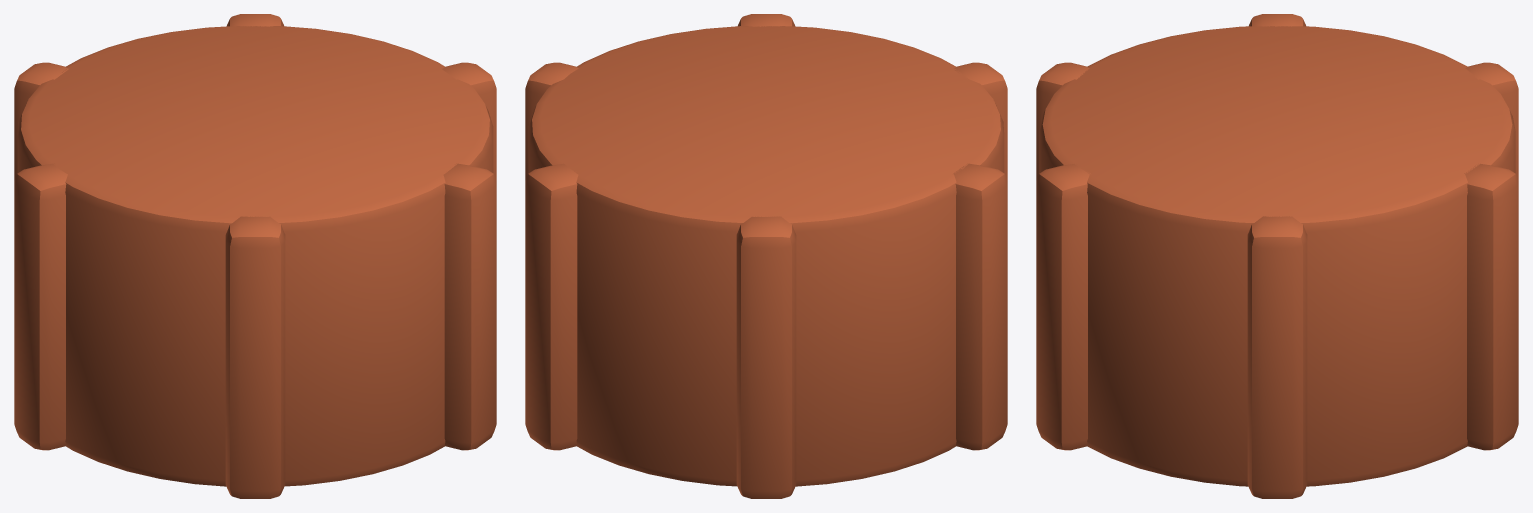
File: wheeled_air_compressor_regulator_knob.glb
The picture shows the model from 3 angles, left to right: view 1: azimuth 30°, elevation 25°; view 2: azimuth 150°, elevation 25°; view 3: azimuth 270°, elevation 25°; orthographic projection.
Parts seen in each view (by area): view 1: wheeled_air_compressor_regulator_knob; view 2: wheeled_air_compressor_regulator_knob; view 3: wheeled_air_compressor_regulator_knob.
Part boxes in pixels (left/top/right/bottom): wheeled_air_compressor_regulator_knob: left=14, top=14, right=496, bottom=498; wheeled_air_compressor_regulator_knob: left=525, top=14, right=1007, bottom=498; wheeled_air_compressor_regulator_knob: left=1036, top=14, right=1518, bottom=498.
Size of the model in its own units: 0.036 by 0.02 by 0.0324.
